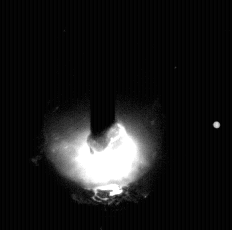arame: (91, 0, 117, 151)
poca: (44, 0, 163, 230)
